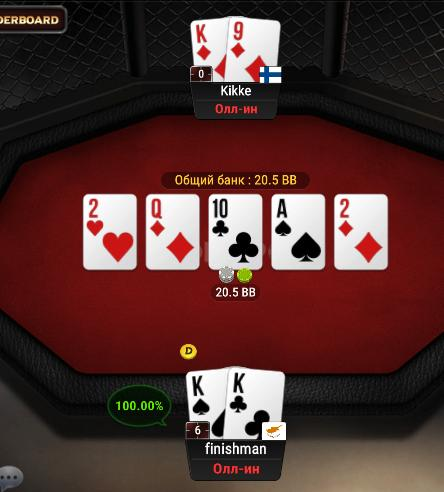10c: (209, 195, 262, 268)
2d: (335, 195, 387, 268)
2h: (83, 194, 137, 268)
9d: (228, 15, 279, 81)
As: (271, 195, 325, 268)
Kc: (227, 366, 286, 440)
Kd: (191, 19, 228, 83)
Ks: (185, 368, 226, 439)
Qd: (146, 195, 199, 268)
